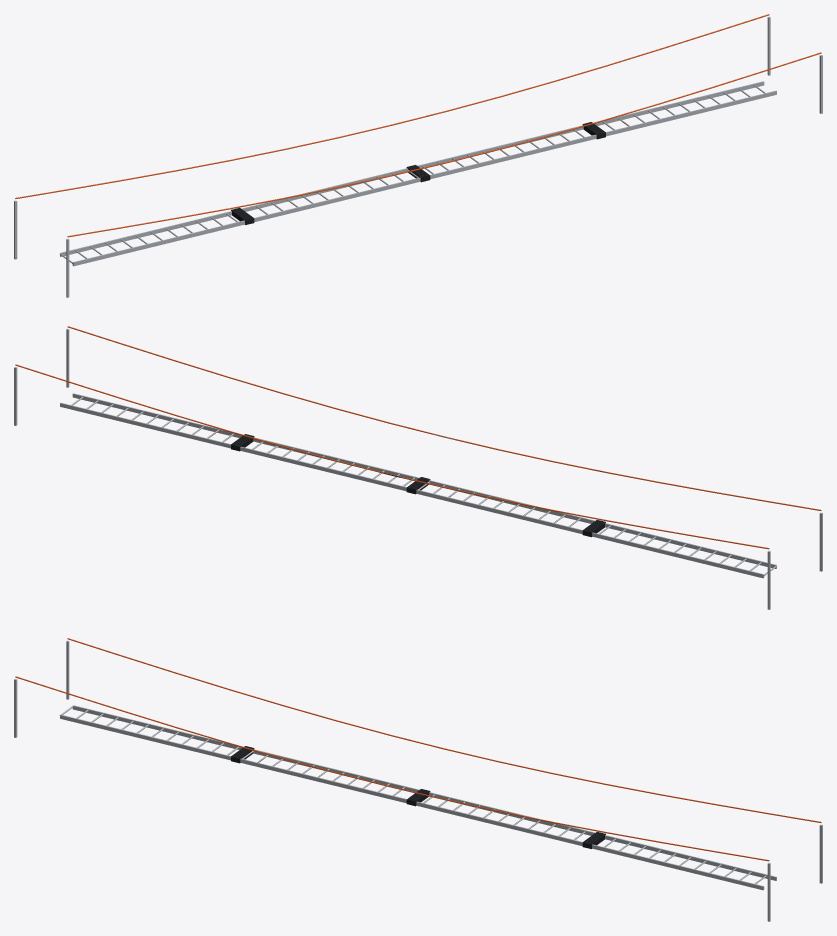
The model's file is ladder_bridge.glb.
The picture shows the model from 3 angles, top to bottom: view 1: azimuth 30°, elevation 25°; view 2: azimuth 150°, elevation 25°; view 3: azimuth 330°, elevation 25°; orthographic projection.
Parts seen in each view (by area): view 1: ladder_bridge; view 2: ladder_bridge; view 3: ladder_bridge.
Boxes of the visible parts, x1,y1,x2,y2 form: ladder_bridge: (14, 14, 822, 297); ladder_bridge: (14, 326, 822, 609); ladder_bridge: (14, 638, 822, 921).
Bounding box in the file's own units: 15.04 × 1.16 × 1.84.
1 material, 1 textured.
